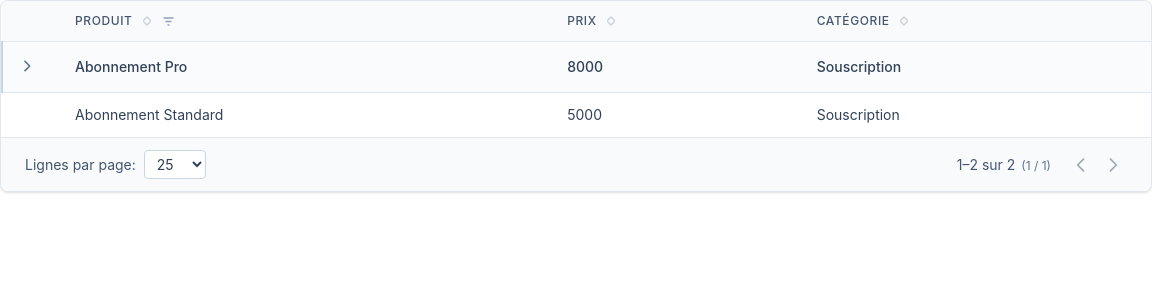
Test: ResponsiveDataTable — Upgrade & Robustesse › Agrégation & Expansion (Group Rows) › affiche un chevron pour la ligne de groupe et déplie les sous-lignes
The image size is (1152, 308).
Check: the text "Abonnement Pro" is shown, box [51,42,543,92]
Check: the text "Abonnement Standard" is shown, box [51,92,543,137]
Note: Trouver le bouton déplier (chevron)
Click the button named "Déplier" at (27,66), box [15,54,39,78]
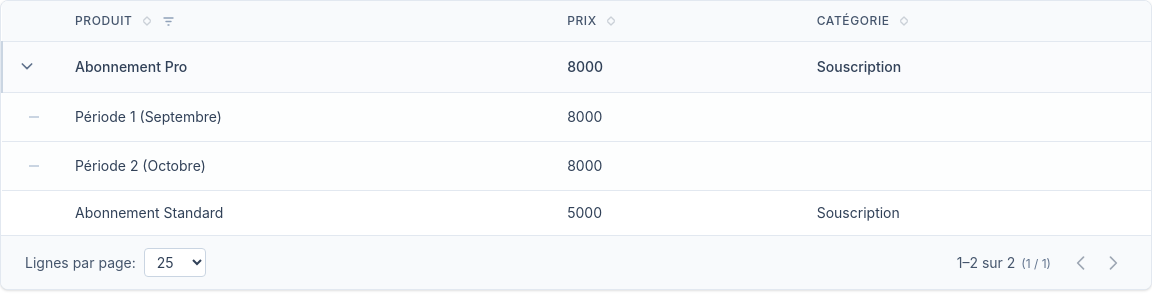
Check: the text "Période 1 (Septembre)" is shown, box [51,92,543,142]
Check: the text "Période 2 (Octobre)" is shown, box [51,142,543,190]
Note: Clic replier
Click the button named "Replier" at (27,66), box [15,54,39,78]
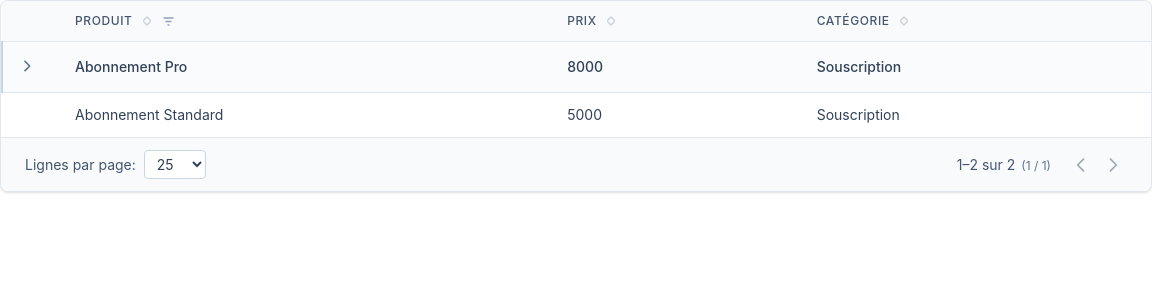
Check: the text "Période 1 (Septembre)" is gone
